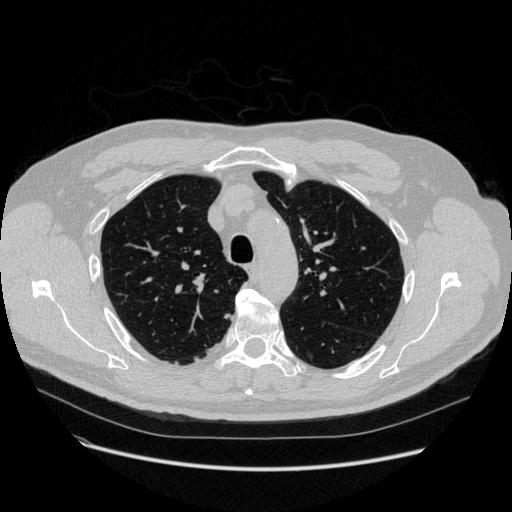nodule: (222, 311, 232, 321)
